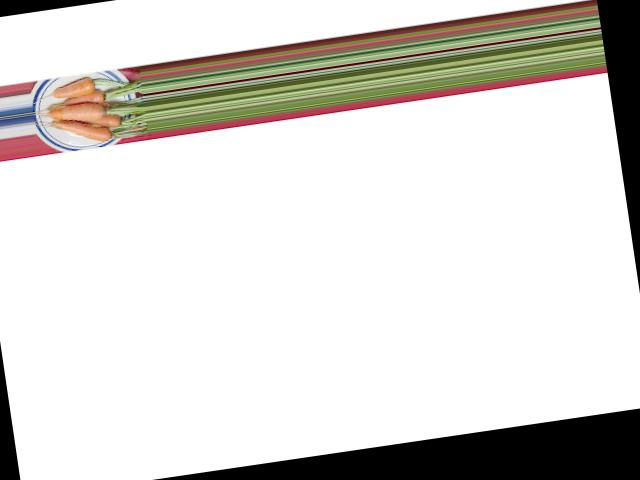carrot: (49, 73, 101, 102)
